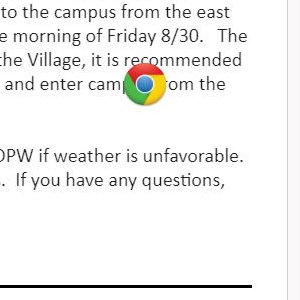chrome: (123, 63, 167, 107)
